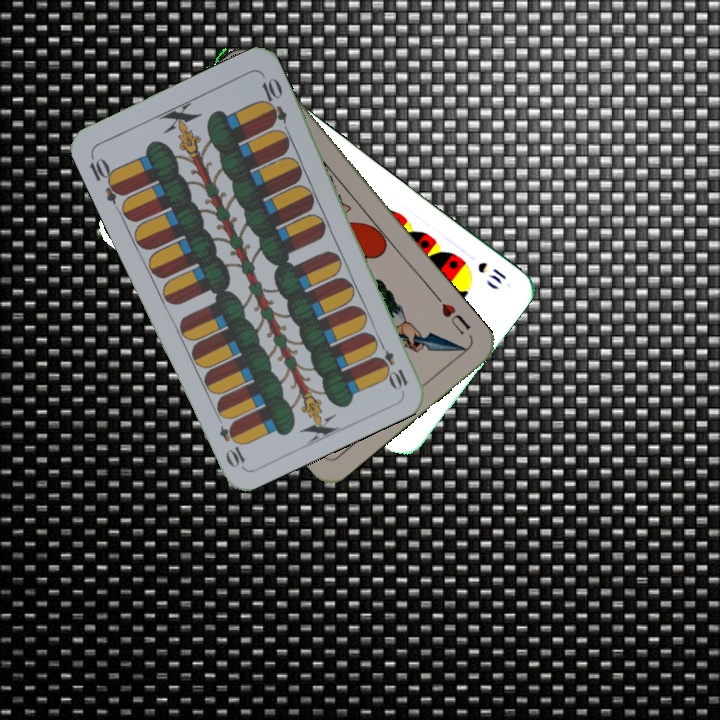E10: (85, 150, 127, 206), (372, 335, 411, 392)
HU: (431, 291, 474, 338)
S10: (473, 257, 509, 291)
